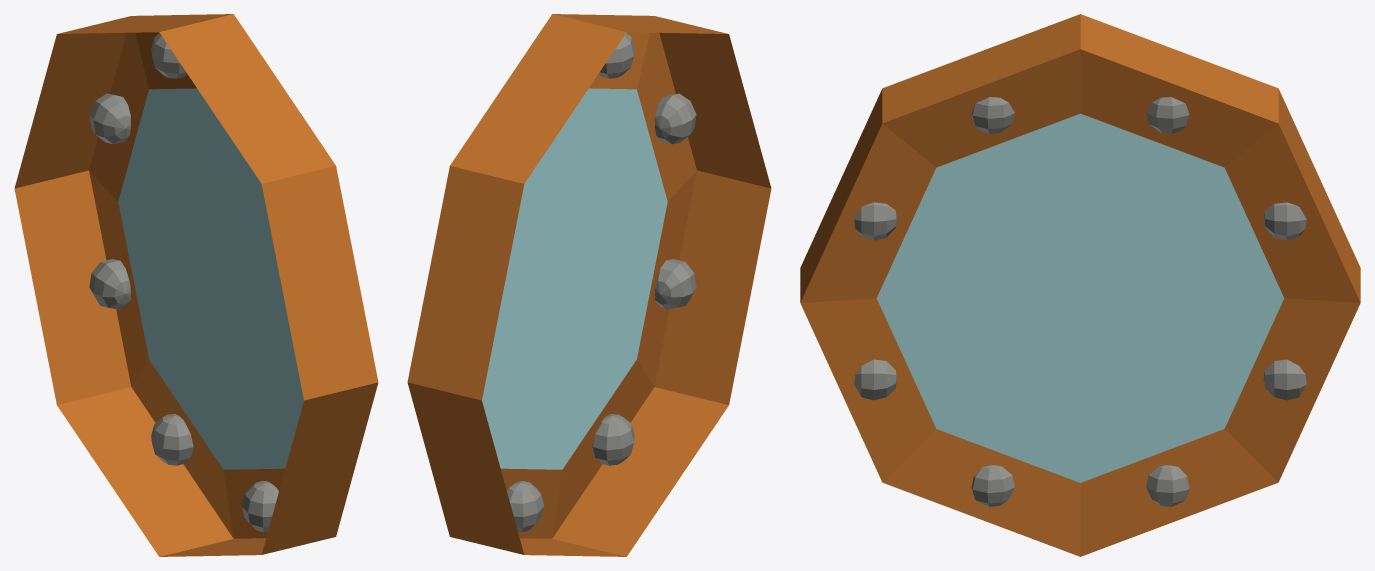
The model's file is Window.fbx.
The picture shows the model from 3 angles, left to right: view 1: azimuth 30°, elevation 25°; view 2: azimuth 150°, elevation 25°; view 3: azimuth 270°, elevation 25°; orthographic projection. The views are drawn at different scales.
Visible parts, largest first — view 1: Window; view 2: Window; view 3: Window.
Boxes of the visible parts, bbox=[...] form: Window: bbox=[14, 14, 378, 556]; Window: bbox=[407, 14, 771, 556]; Window: bbox=[800, 14, 1360, 556].
Size of the model in its own units: 0.0803 by 0.5 by 0.5.
